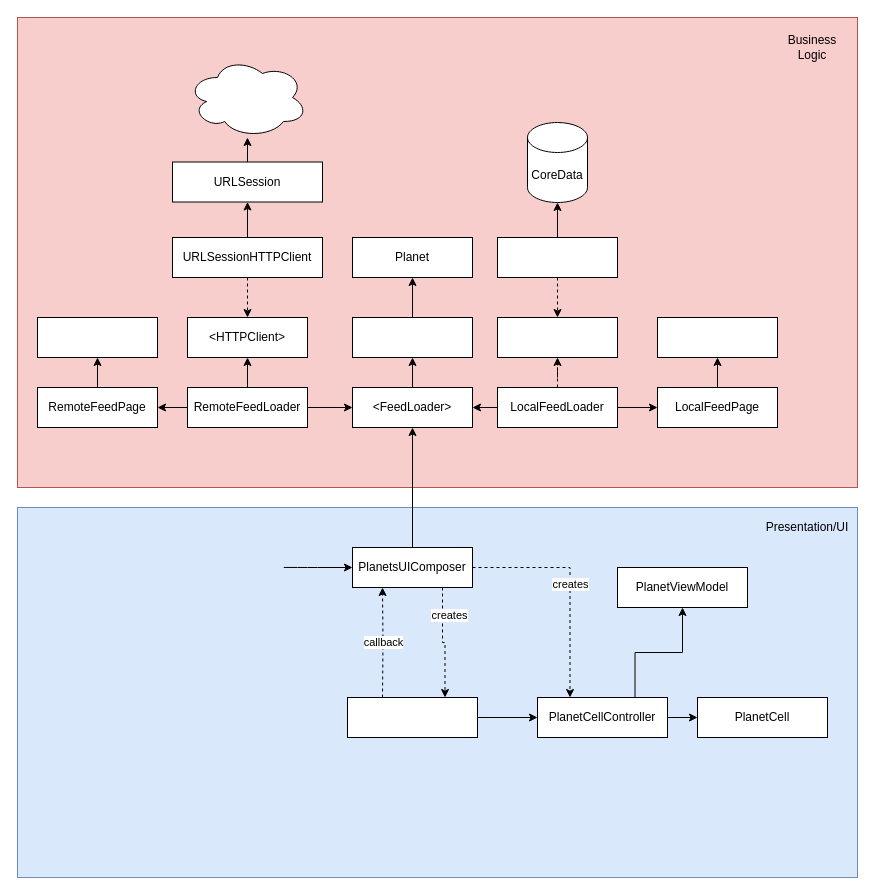
Image size: 875x895. Some labels were removed from this diagram. The centre of each missing label's shape, as x and y in pixels:
"<LocalFeedStore>" belongs at (x=557, y=337).
"CoreDataFeedStore" belongs at (x=557, y=257).
"LocalFeedPlanet" belongs at (x=717, y=337).
"Page" belongs at (x=412, y=337).
"PlantesViewController" belongs at (x=412, y=717).
"RemoteFeedPlanet" belongs at (x=97, y=337).
"Server" belongs at (x=247, y=97).
